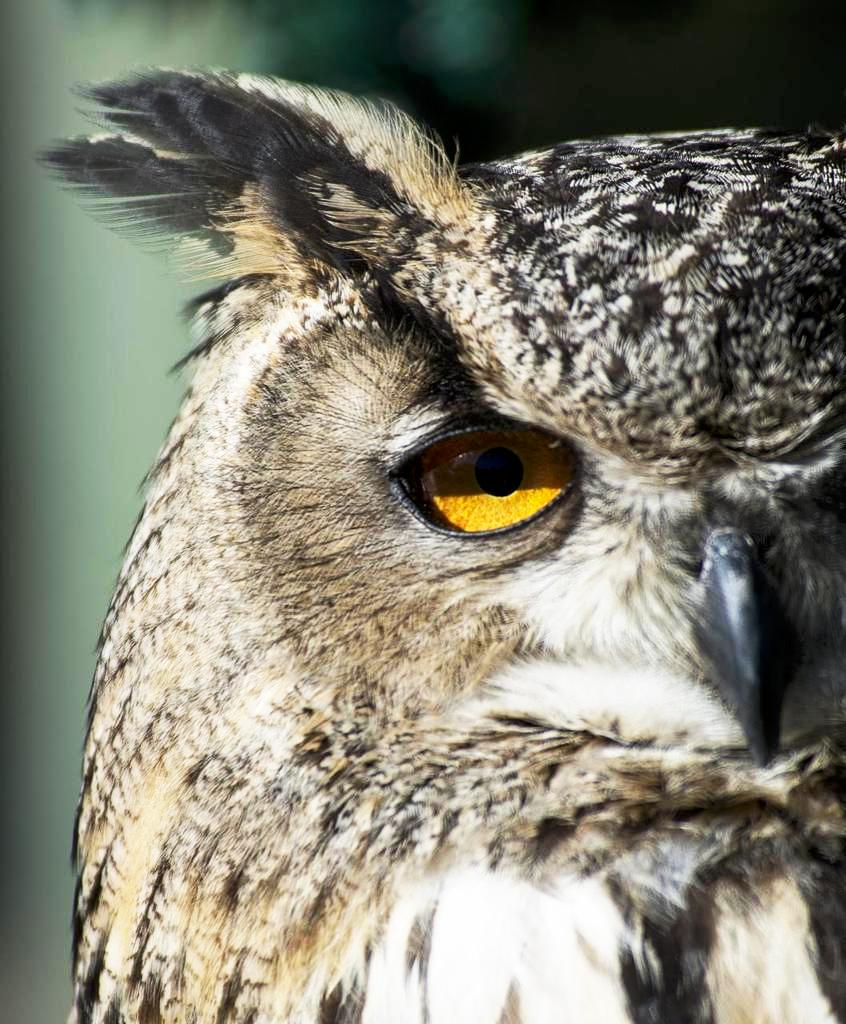Owl: (29, 38, 845, 1018)
